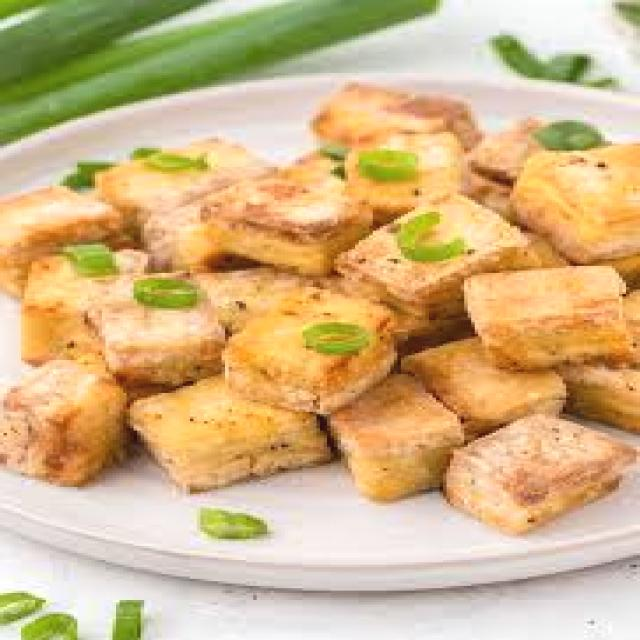tahu: (312, 195, 564, 318), (216, 286, 399, 411), (85, 124, 260, 241), (445, 402, 608, 524), (455, 256, 615, 376), (31, 263, 204, 373), (1, 364, 170, 476), (332, 352, 472, 479), (498, 130, 640, 250), (286, 82, 466, 164)
